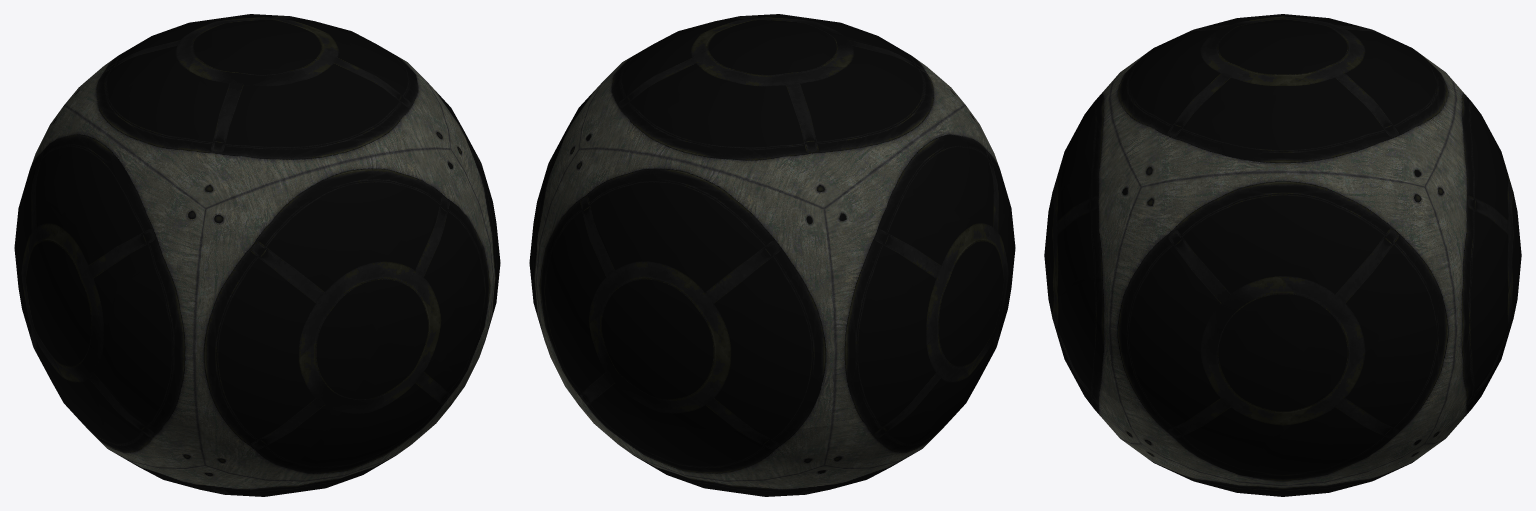
Rendered from 12break.fbx.
3 renders of one model, left to right at view 1: azimuth 30°, elevation 25°; view 2: azimuth 150°, elevation 25°; view 3: azimuth 270°, elevation 25°, orthographic.
Parts seen in each view (by area): view 1: 12.break.004, 12.break.009, 12.break.008, 12.break.007, 12.break.011, 12.break.010, 12.break.005, 12.break.015, 12.break.014, 12.break.012, 12.break.003, 12.break (+1 smaller); view 2: 12.break.016, 12.break.003, 12.break.011, 12.break.015, 12.break.017, 12.break.008, 12.break.012, 12.break.005, 12.break.009, 12.break, 12.break.006, 12.break.004; view 3: 12.break.012, 12.break.014, 12.break.007, 12.break.006, 12.break.009, 12.break.003, 12.break.005, 12.break.016, 12.break.001, 12.break.010, 12.break.
Part boxes in pixels (x1=…): 12.break.004: x1=99, y1=224, x2=379, y2=490; 12.break.009: x1=207, y1=68, x2=445, y2=285; 12.break.008: x1=46, y1=61, x2=225, y2=284; 12.break.007: x1=364, y1=122, x2=491, y2=353; 12.break.011: x1=14, y1=183, x2=119, y2=441; 12.break.010: x1=234, y1=347, x2=453, y2=495; 12.break.005: x1=211, y1=16, x2=418, y2=101; 12.break.015: x1=23, y1=45, x2=177, y2=192; 12.break.014: x1=429, y1=192, x2=500, y2=371; 12.break.012: x1=238, y1=14, x2=459, y2=123; 12.break.003: x1=75, y1=18, x2=219, y2=91; 12.break: x1=177, y1=18, x2=221, y2=73; 12.break.016: x1=534, y1=231, x2=871, y2=431; 12.break.003: x1=560, y1=82, x2=806, y2=301; 12.break.011: x1=847, y1=214, x2=1009, y2=429; 12.break.015: x1=798, y1=78, x2=922, y2=317; 12.break.017: x1=586, y1=399, x2=948, y2=496; 12.break.008: x1=830, y1=56, x2=1005, y2=227; 12.break.012: x1=531, y1=22, x2=711, y2=256; 12.break.005: x1=697, y1=15, x2=831, y2=92; 12.break.009: x1=758, y1=14, x2=955, y2=92; 12.break: x1=709, y1=52, x2=846, y2=88; 12.break.006: x1=529, y1=250, x2=602, y2=429; 12.break.004: x1=943, y1=127, x2=1015, y2=427; 12.break.012: x1=1170, y1=68, x2=1470, y2=335; 12.break.014: x1=1056, y1=277, x2=1336, y2=441; 12.break.007: x1=1044, y1=177, x2=1381, y2=378; 12.break.006: x1=1219, y1=321, x2=1474, y2=496; 12.break.009: x1=1053, y1=19, x2=1245, y2=193; 12.break.003: x1=1335, y1=25, x2=1514, y2=248; 12.break.005: x1=1180, y1=22, x2=1386, y2=145; 12.break.016: x1=1435, y1=188, x2=1521, y2=394; 12.break.001: x1=1080, y1=368, x2=1264, y2=491; 12.break.010: x1=1045, y1=265, x2=1112, y2=429; 12.break: x1=1267, y1=17, x2=1380, y2=64.
Size of the model in its own units: 100 by 100 by 100.
Materials: 1 (1 with a texture image).
